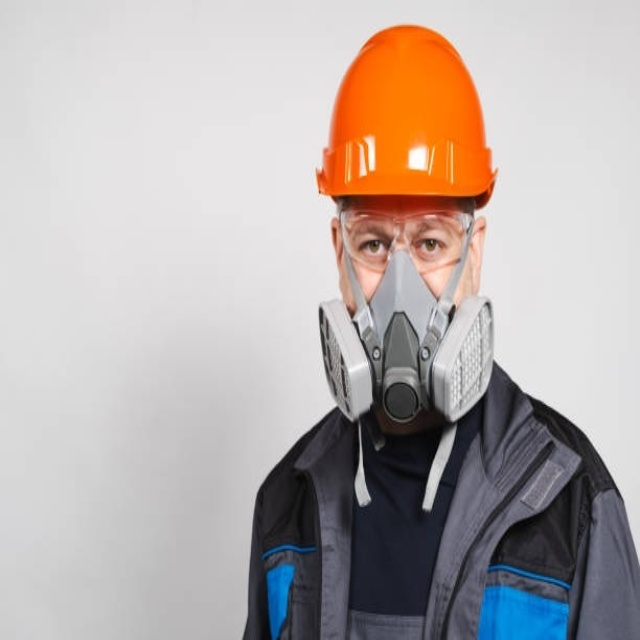Gafas: (338, 205, 474, 273)
Mascara: (314, 237, 500, 427)
